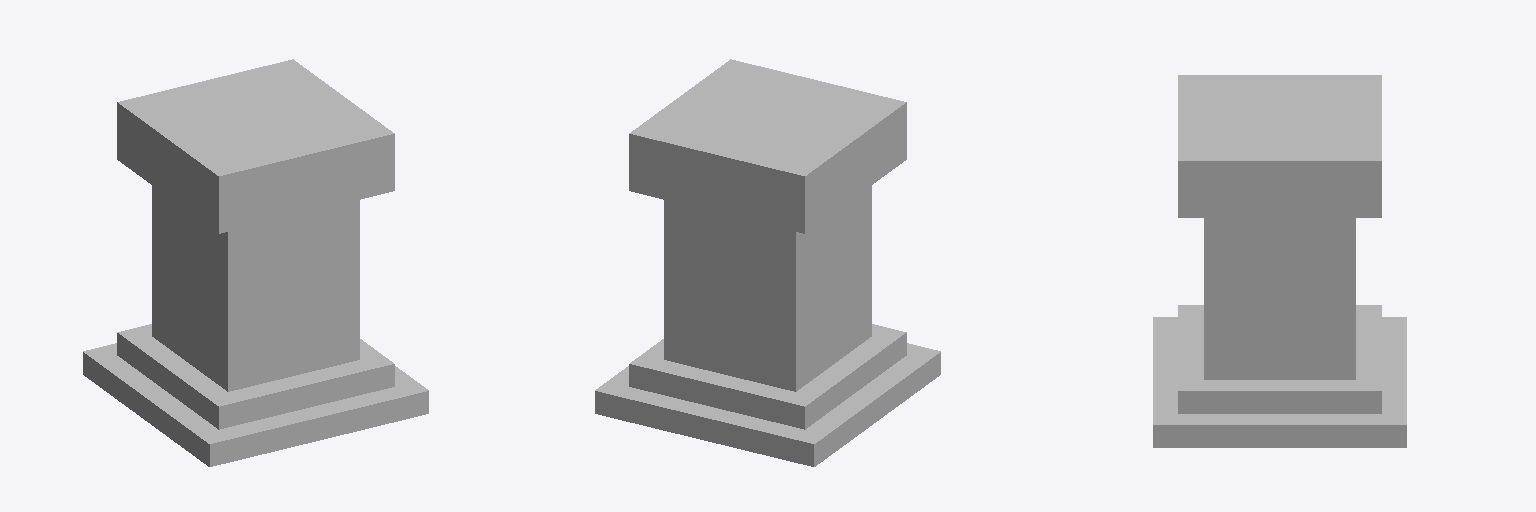
Rendered from tier1tower_model.obj.
3 views of the same model, side by side, from view 1: azimuth 30°, elevation 25°; view 2: azimuth 150°, elevation 25°; view 3: azimuth 270°, elevation 25° (orthographic).
Visible parts, largest first — view 1: Cube.002_Cube.005, Cube.003_Cube.006, Cube_Cube.003, Cube.001_Cube.004; view 2: Cube.002_Cube.005, Cube.003_Cube.006, Cube_Cube.003, Cube.001_Cube.004; view 3: Cube.002_Cube.005, Cube.003_Cube.006, Cube_Cube.003, Cube.001_Cube.004.
Part boxes in pixels (left/top/right/bottom): Cube.002_Cube.005: left=117, top=59, right=394, bottom=233; Cube.003_Cube.006: left=152, top=186, right=359, bottom=391; Cube_Cube.003: left=83, top=343, right=428, bottom=466; Cube.001_Cube.004: left=117, top=324, right=394, bottom=429; Cube.002_Cube.005: left=629, top=59, right=906, bottom=233; Cube.003_Cube.006: left=664, top=186, right=871, bottom=391; Cube_Cube.003: left=595, top=343, right=940, bottom=466; Cube.001_Cube.004: left=629, top=324, right=906, bottom=429; Cube.002_Cube.005: left=1178, top=75, right=1381, bottom=217; Cube.003_Cube.006: left=1204, top=218, right=1355, bottom=379; Cube_Cube.003: left=1153, top=317, right=1406, bottom=447; Cube.001_Cube.004: left=1178, top=305, right=1381, bottom=413.
Size of the model in its own units: 2 by 2.4 by 2.